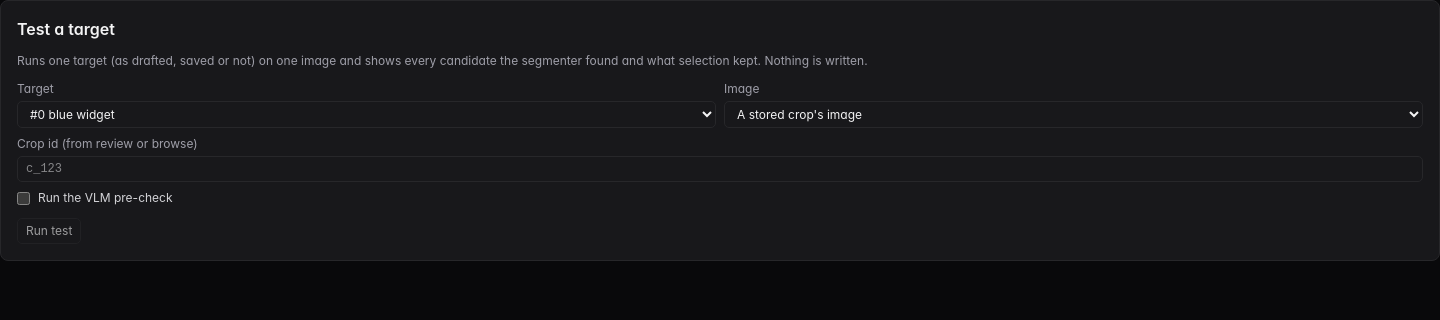
it: OpenVocabTestPanel › shows a segmenter failure as an error, never as no hits
The width and height of the screenshot is (1440, 320).
Type "c1" into the field labelled "Crop id (from review or browse)" at (720, 169), box [17, 156, 1423, 182]
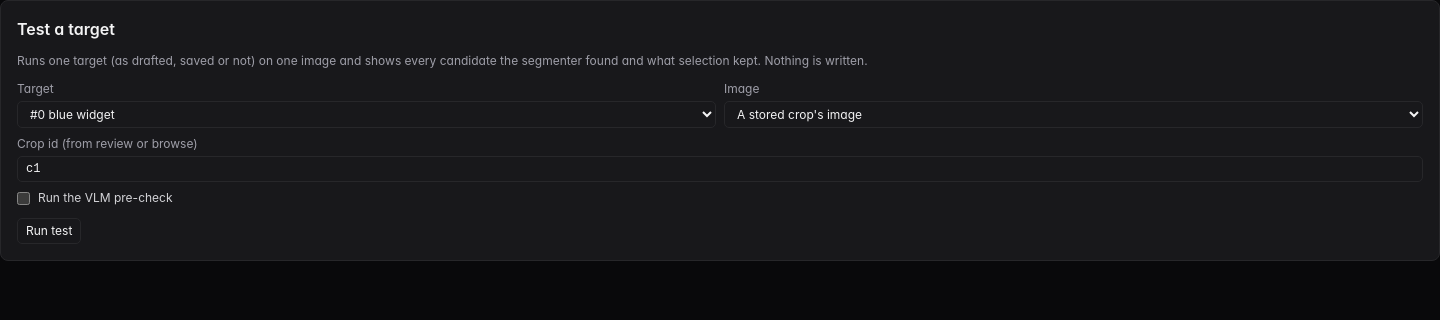
Click the button "Run test" at (49, 231), box [17, 218, 81, 244]
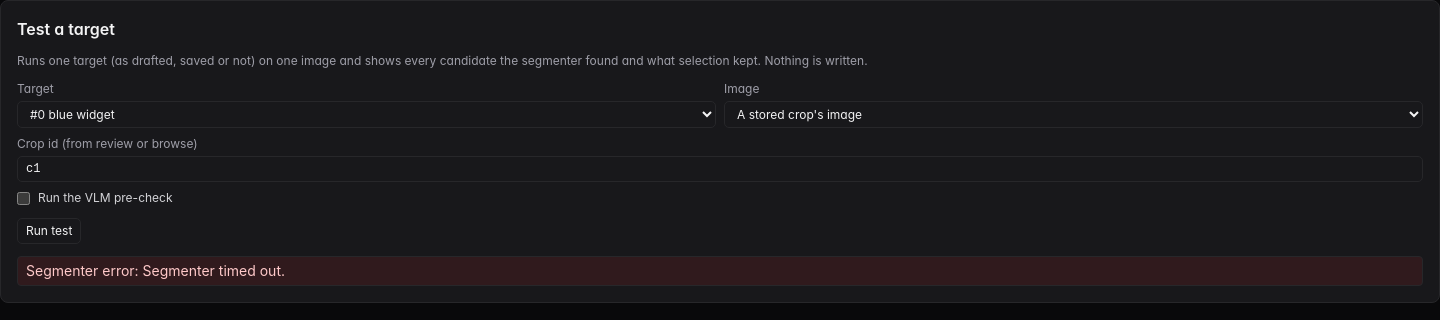
Now the text "Segmenter error: Segmenter timed out." is shown, box [17, 256, 1423, 286]
